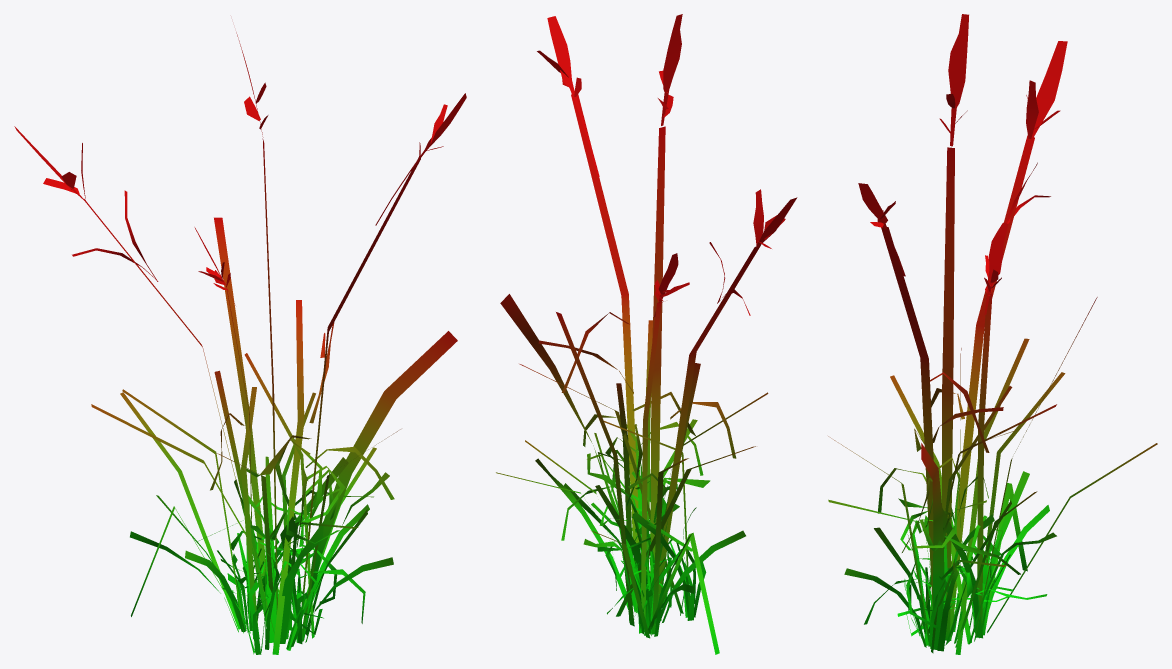
File: Var2_LOD2.fbx
3 views of the same model, side by side, from view 1: azimuth 30°, elevation 25°; view 2: azimuth 150°, elevation 25°; view 3: azimuth 270°, elevation 25° (orthographic). The views are drawn at different scales.
Visible parts, largest first — view 1: _c520_Var2_LOD2; view 2: _c520_Var2_LOD2; view 3: _c520_Var2_LOD2.
Part boxes in pixels (x1,y1,x2,y2): _c520_Var2_LOD2: (14,32,466,654); _c520_Var2_LOD2: (496,14,797,654); _c520_Var2_LOD2: (828,14,1157,654).
Bounding box in the file's own units: 92.19 × 149 × 73.52.
